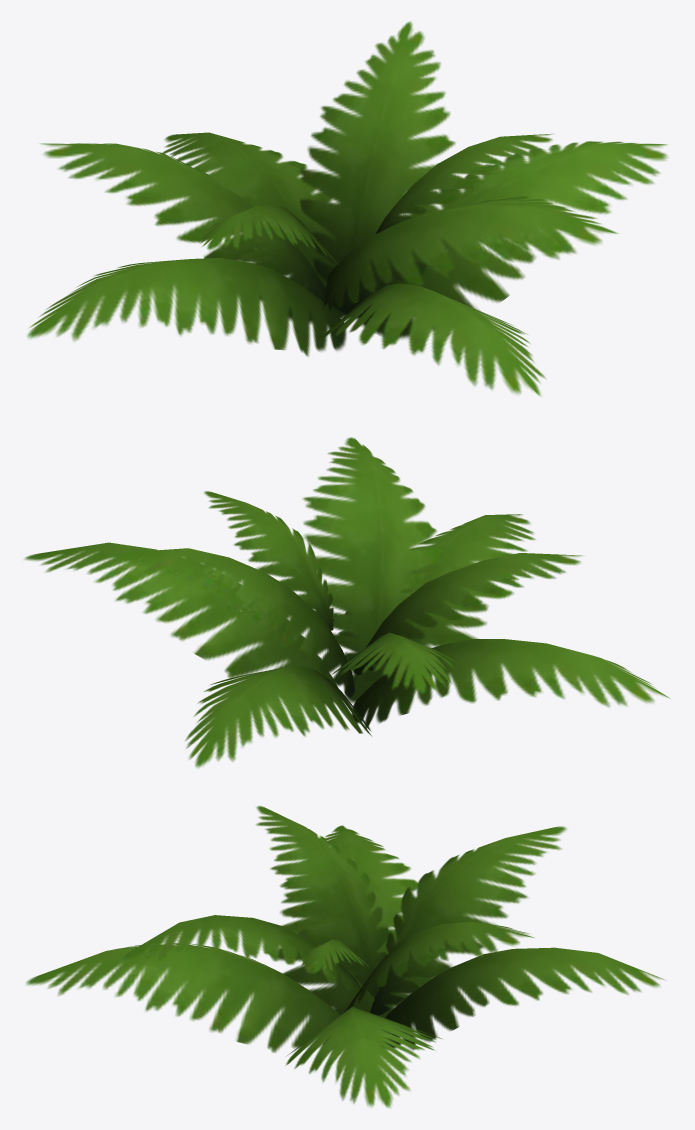
Rendered from Fern.glb.
3 views of the same model, one above another, from view 1: azimuth 30°, elevation 25°; view 2: azimuth 150°, elevation 25°; view 3: azimuth 270°, elevation 25° (orthographic). The views are drawn at different scales.
Parts seen in each view (by area): view 1: Fern_1; view 2: Fern_1; view 3: Fern_1.
Part boxes in pixels (left/top/right/bottom): Fern_1: left=27, top=21, right=667, bottom=396; Fern_1: left=24, top=437, right=670, bottom=768; Fern_1: left=26, top=806, right=664, bottom=1107.
Bounding box in the file's own units: 9.05 × 2.69 × 8.49.
1 material, 1 textured.
